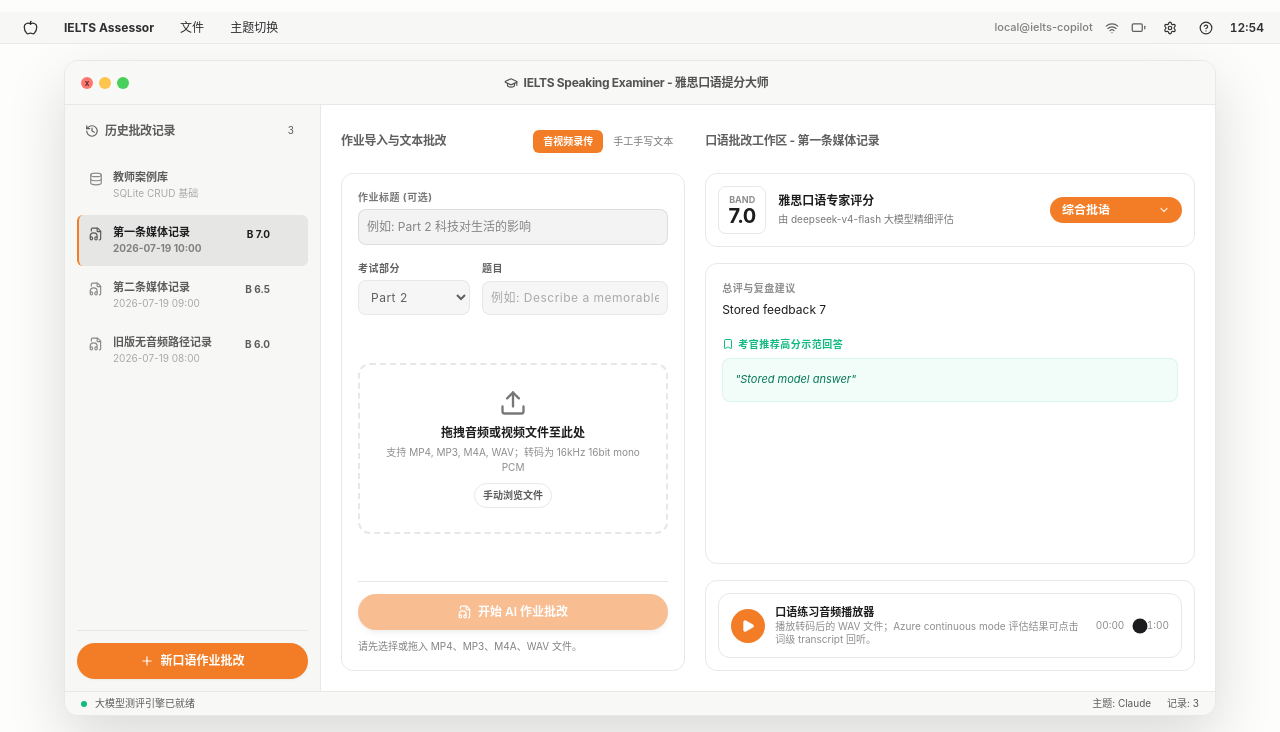
App workspace › plays only the active record audio and does not guess audio for legacy records
Expected: the text "Stored feedback 7" is shown, [722,302,826,317]
Click the button "第二条媒体记录 2026-07-19 09:00 B 6.5": coordinates (192, 295) [77,270,308,321]
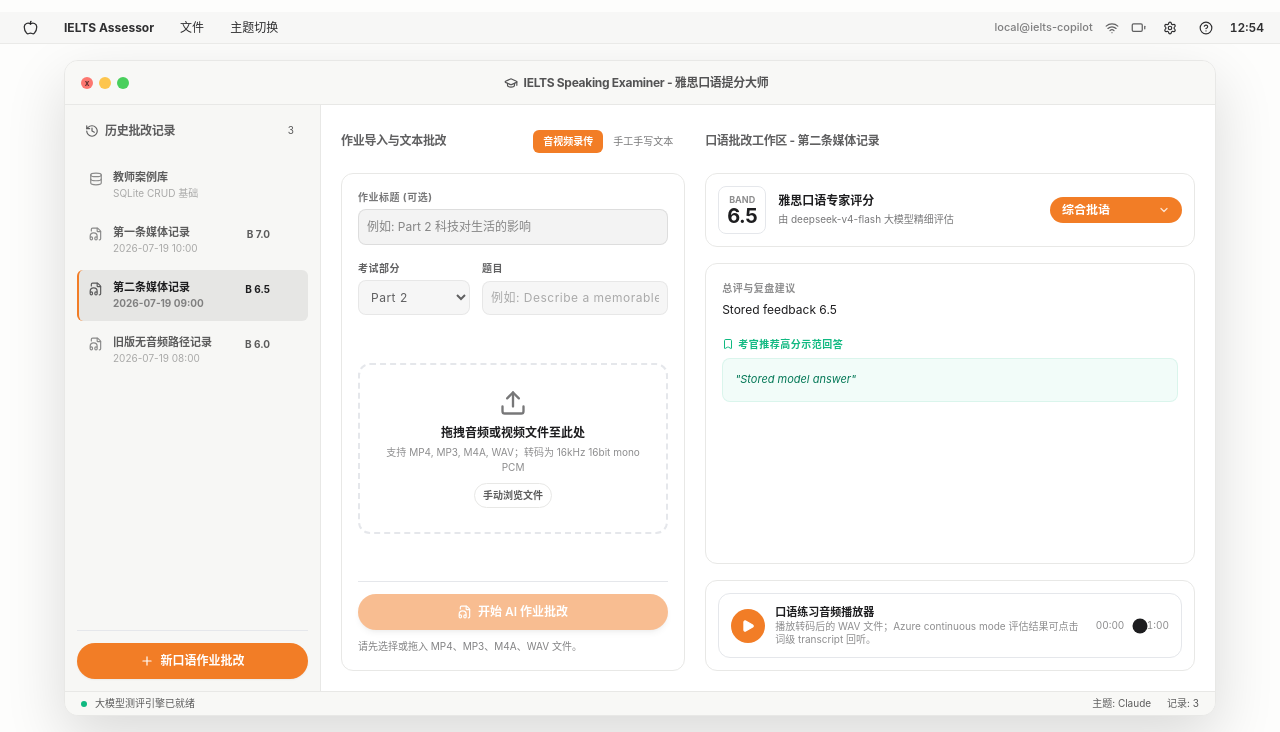
Expected: the text "Stored feedback 6.5" is shown, [722,302,837,317]
Click the button "旧版无音频路径记录 2026-07-19 08:00 B 6.0": coordinates (192, 350) [77,325,308,376]
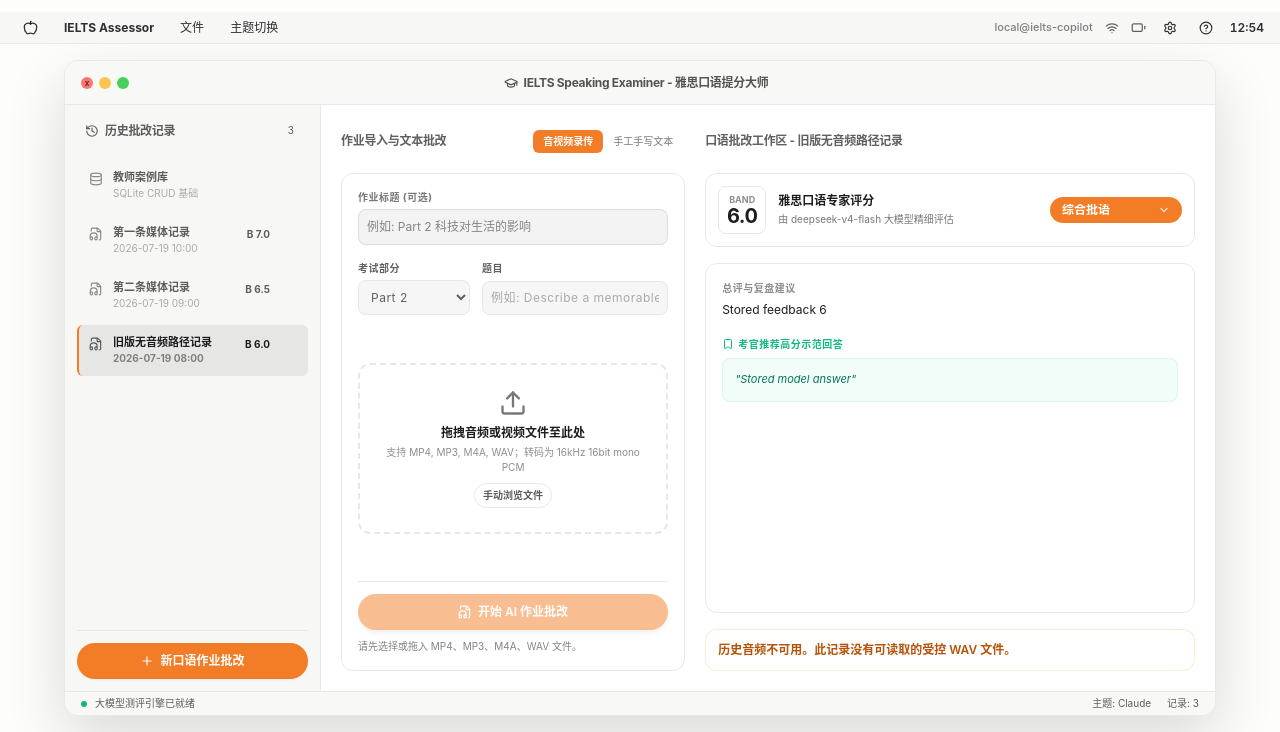
Expected: the text "历史音频不可用。此记录没有可读取的受控 WAV 文件。" is shown, [705,629,1195,671]
